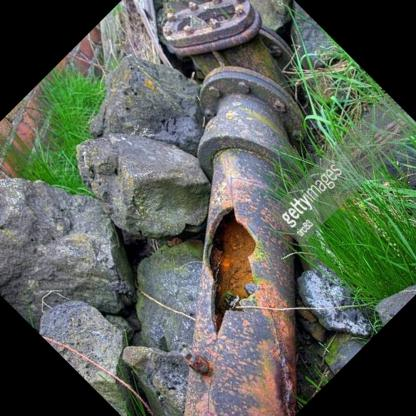burst: (189, 209, 263, 319)
